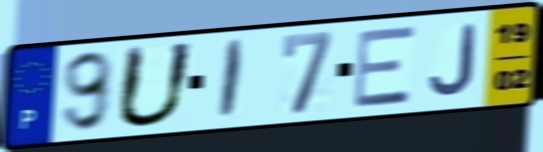7: (279, 28, 337, 118)
9: (56, 49, 118, 135)
E: (351, 23, 417, 111)
I: (216, 37, 249, 123)
J: (426, 22, 479, 98)
U: (112, 40, 200, 132)
